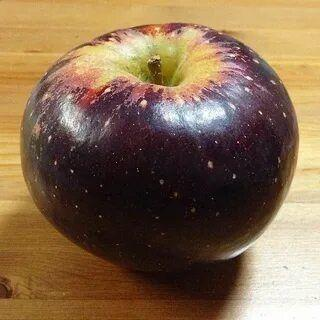Apple: (21, 22, 299, 264)
